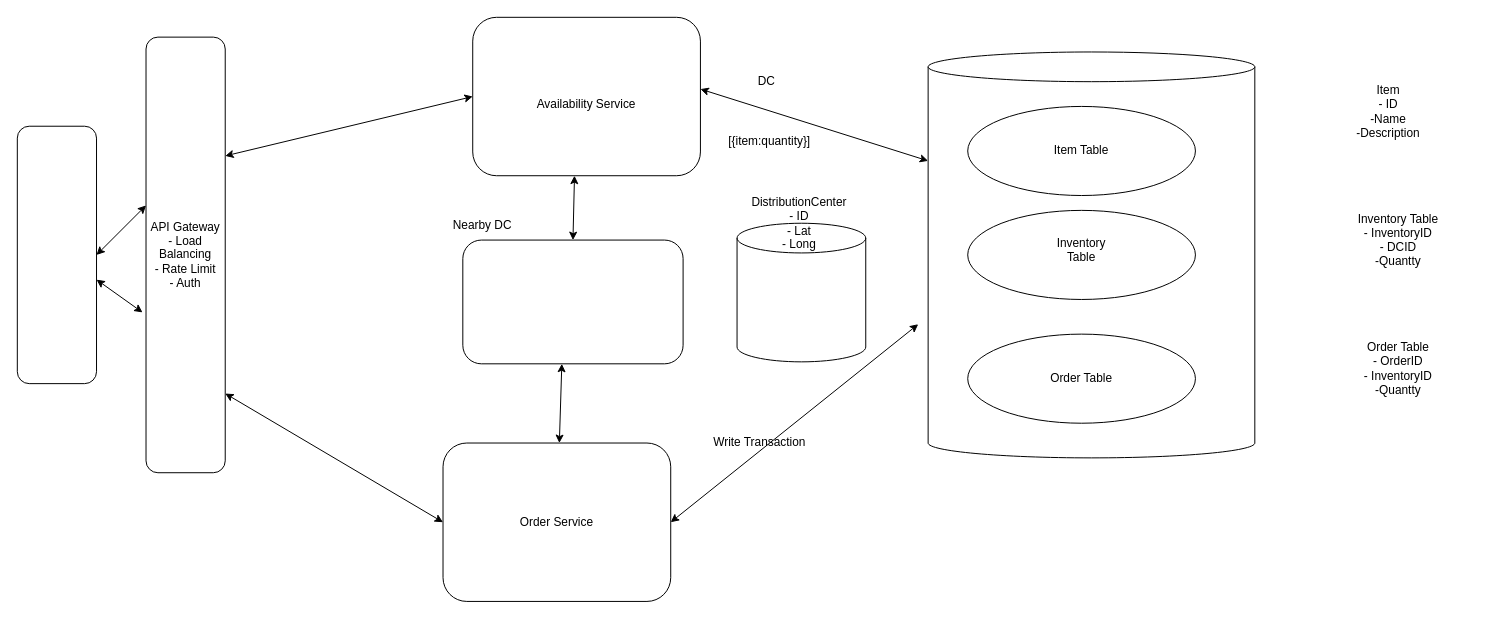
This 1510x619 diagram has some shape labels left out. The centre of each missing label's shape, as x and y in pixels:
DC Table: the point at 801,292
Nearby Services: the point at 572,301
User: the point at 56,254
